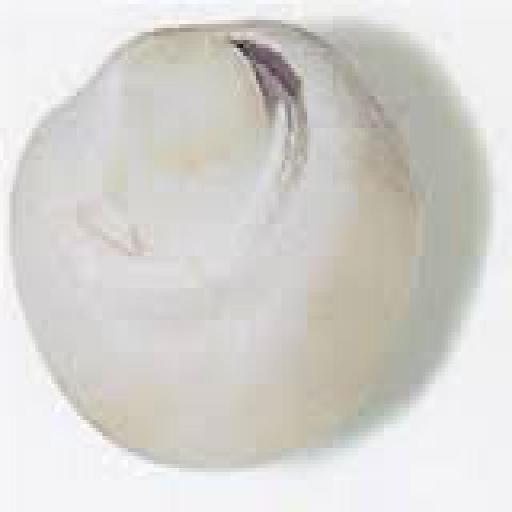Button Mushroom: (10, 22, 418, 474)
